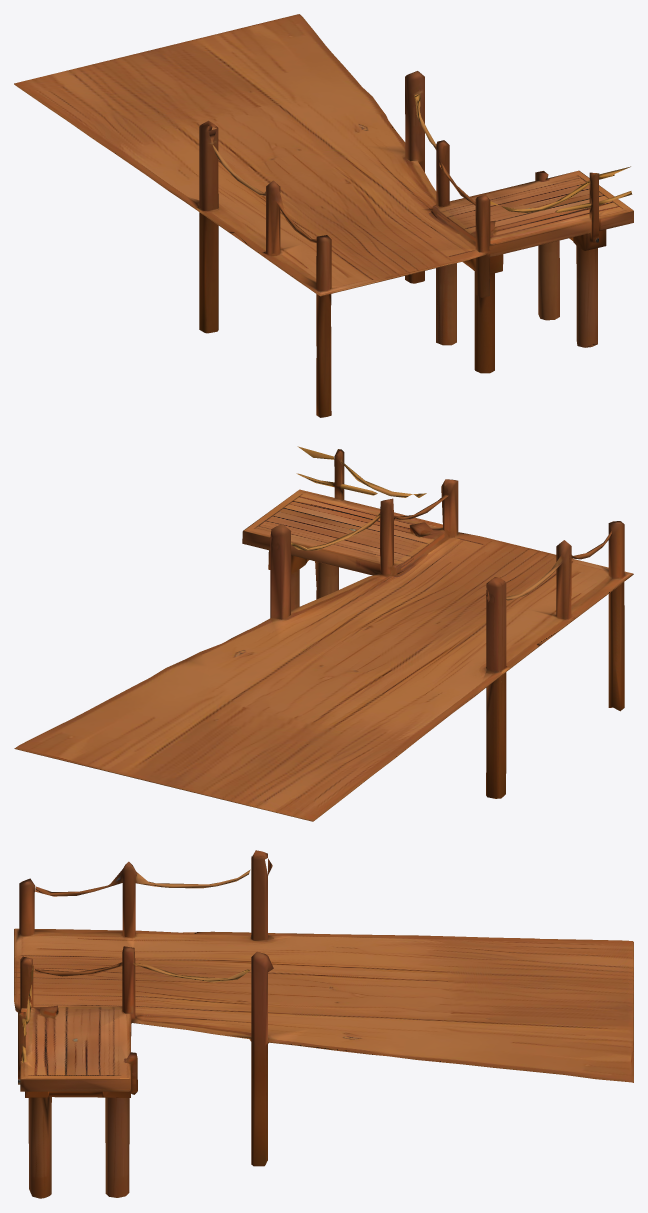
File: SM_Prop_Pier_01.glb
3 renders of one model, top to bottom at view 1: azimuth 30°, elevation 25°; view 2: azimuth 150°, elevation 25°; view 3: azimuth 270°, elevation 25°, orthographic. The views are drawn at different scales.
Visible parts, largest first — view 1: tripo_node_8dcf3721-f88e-45af-a369-28e183848413; view 2: tripo_node_8dcf3721-f88e-45af-a369-28e183848413; view 3: tripo_node_8dcf3721-f88e-45af-a369-28e183848413.
Boxes of the visible parts, bbox=[...] form: tripo_node_8dcf3721-f88e-45af-a369-28e183848413: bbox=[14, 14, 633, 417]; tripo_node_8dcf3721-f88e-45af-a369-28e183848413: bbox=[14, 446, 633, 821]; tripo_node_8dcf3721-f88e-45af-a369-28e183848413: bbox=[14, 850, 633, 1198].
Size of the model in its own units: 0.5969 by 0.3766 by 0.9998.
Materials: 1 (1 with a texture image).
